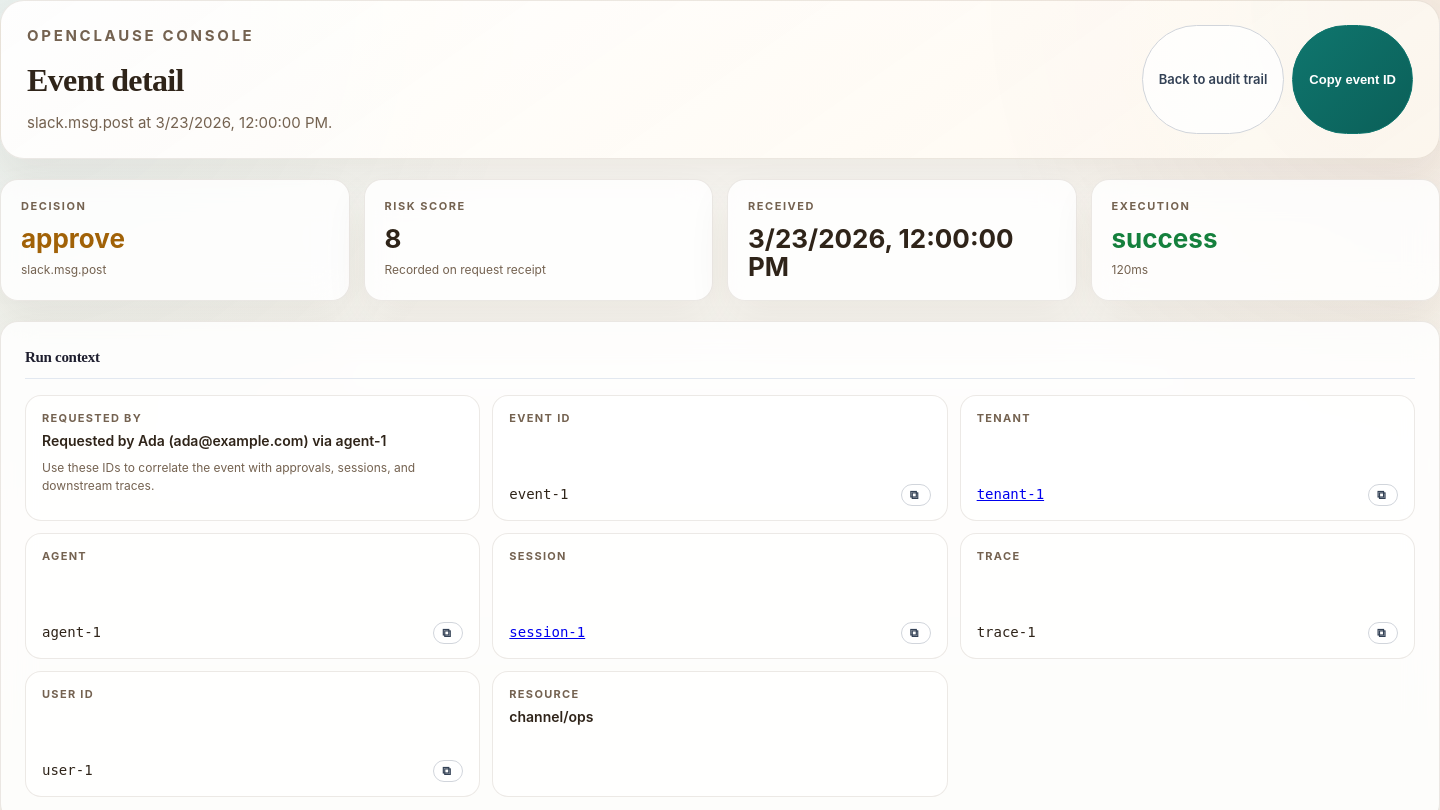
Scenario: Event detail page › renders detail sections and supports copy actions
Expected: the heading "Event detail" is shown, [27, 62, 184, 98]
Expected: the heading "Run context" is shown, [25, 346, 1415, 379]
Click the button "Copy event ID".
click(1353, 80)  # box [1292, 25, 1413, 134]
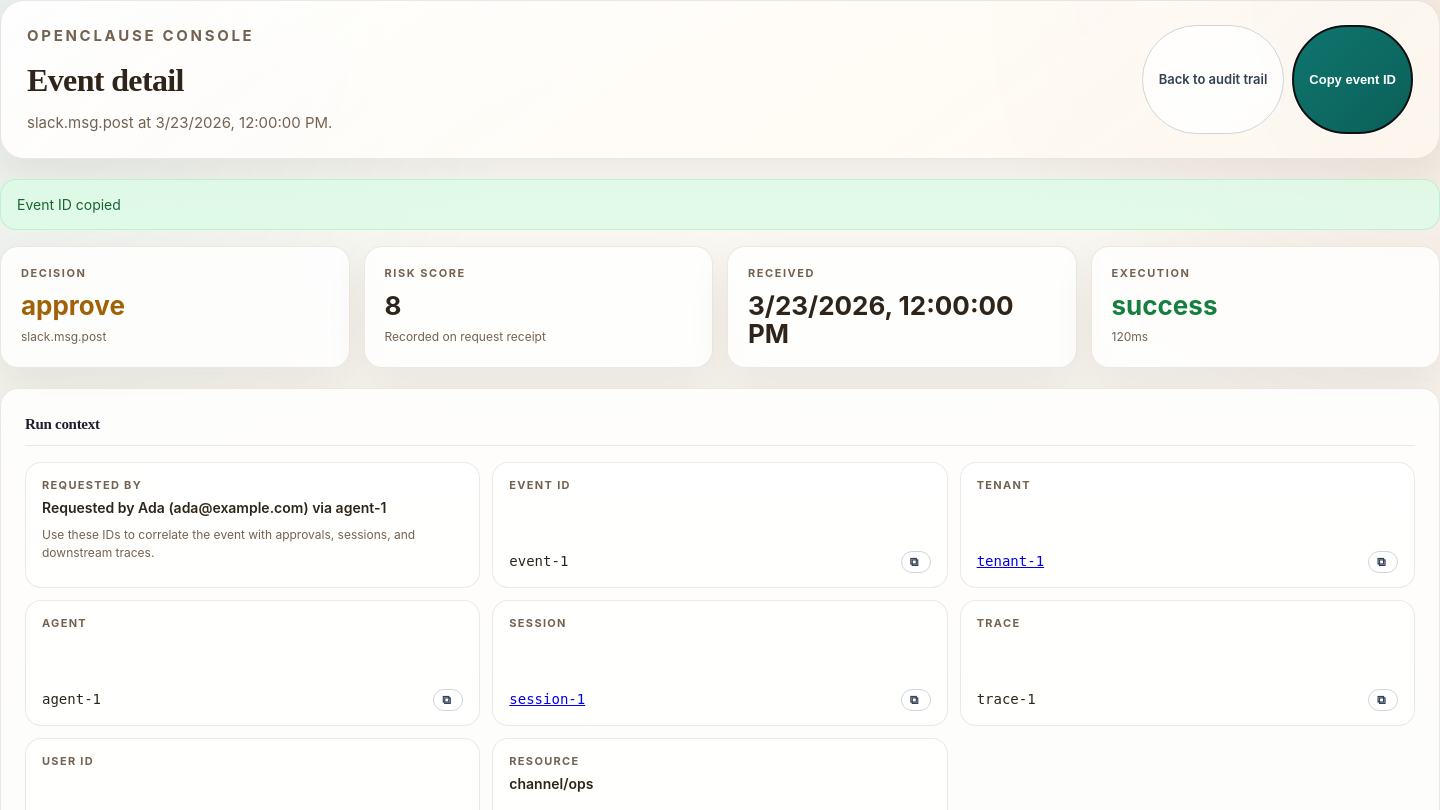
Now the text "Event ID copied" is shown, box [17, 194, 121, 215]
